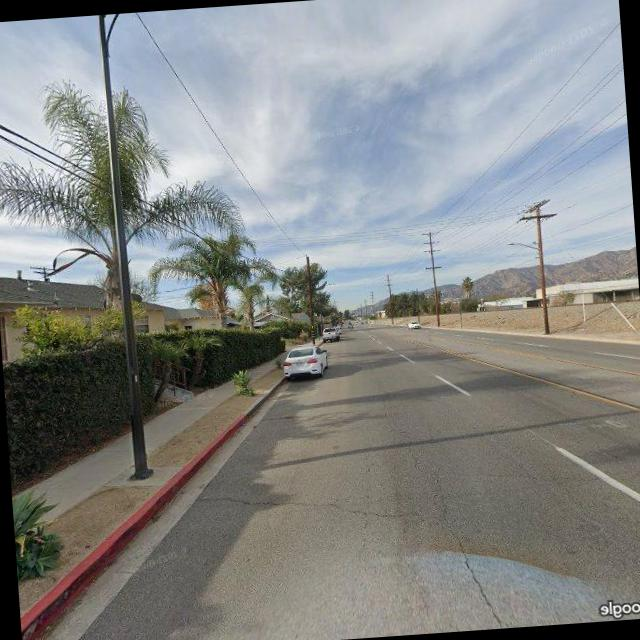crack: (198, 473, 442, 538), (428, 468, 507, 626)
